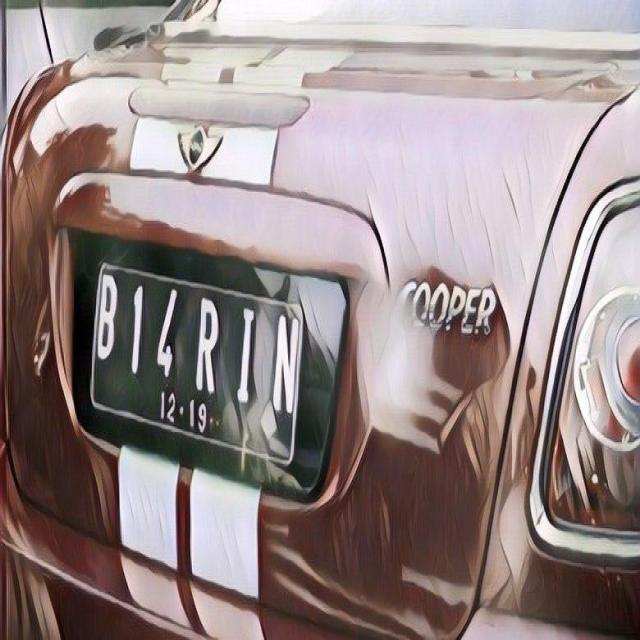plate: (98, 266, 300, 445)
